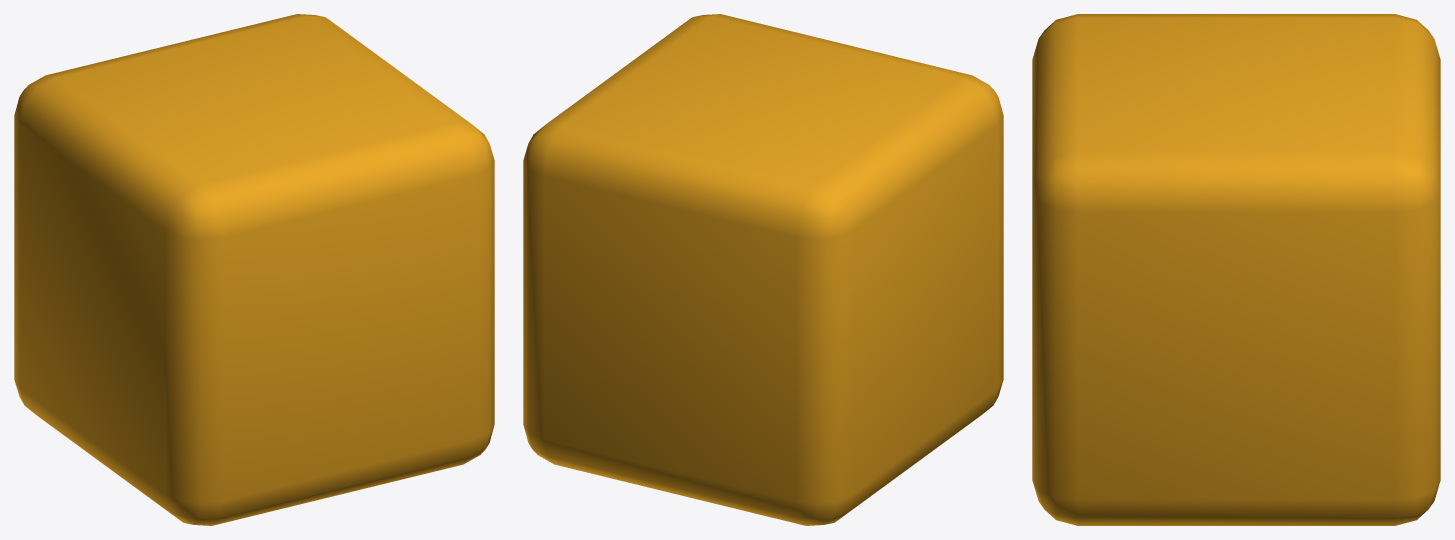
File: yellowcube.fbx
3 views of the same model, side by side, from view 1: azimuth 30°, elevation 25°; view 2: azimuth 150°, elevation 25°; view 3: azimuth 270°, elevation 25° (orthographic). The views are drawn at different scales.
Parts seen in each view (by area): view 1: Cube; view 2: Cube; view 3: Cube.
Part boxes in pixels (left/top/right/bottom): Cube: left=14, top=14, right=494, bottom=525; Cube: left=523, top=14, right=1003, bottom=525; Cube: left=1032, top=14, right=1440, bottom=525.
Bounding box in the file's own units: 159 × 159 × 159.
